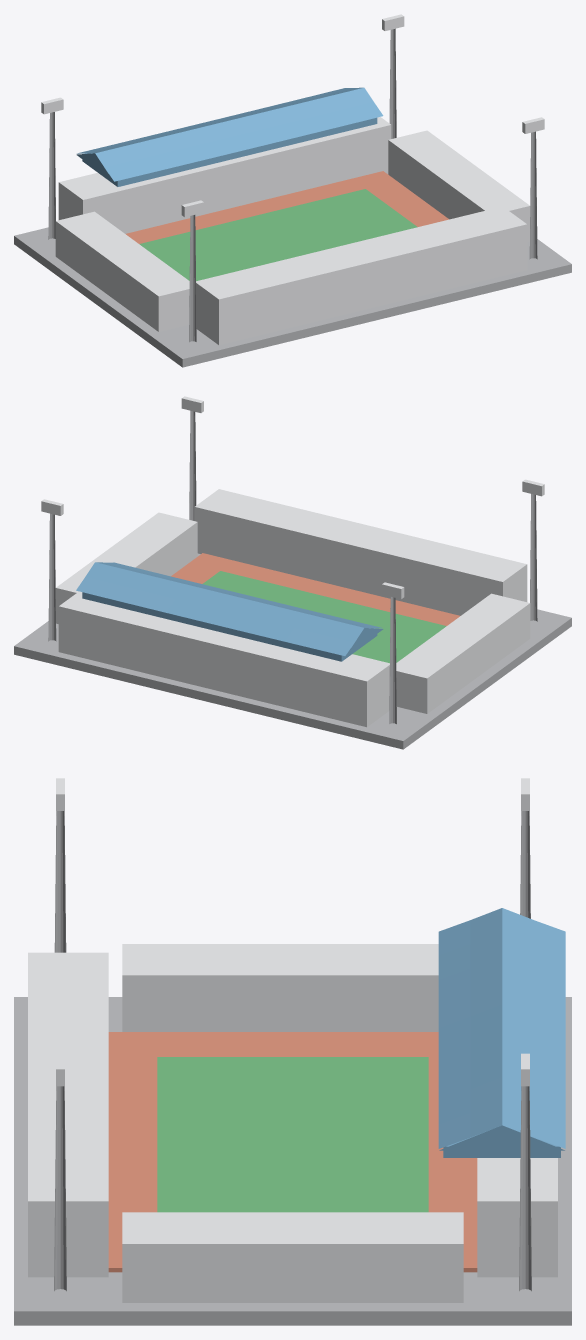
Rendered from lm_97_san_van_dong_da_lat_20000_cho_doi_thanh_mau_complex.glb.
The picture shows the model from 3 angles, top to bottom: view 1: azimuth 30°, elevation 25°; view 2: azimuth 150°, elevation 25°; view 3: azimuth 270°, elevation 25°; orthographic projection. The views are drawn at different scales.
Parts seen in each view (by area): view 1: lm_97_san_van_dong_da_lat_20000_cho_doi_thanh_mau_complex; view 2: lm_97_san_van_dong_da_lat_20000_cho_doi_thanh_mau_complex; view 3: lm_97_san_van_dong_da_lat_20000_cho_doi_thanh_mau_complex.
Part boxes in pixels (<box>): lm_97_san_van_dong_da_lat_20000_cho_doi_thanh_mau_complex: <box>14,14,571,367</box>; lm_97_san_van_dong_da_lat_20000_cho_doi_thanh_mau_complex: <box>14,396,571,749</box>; lm_97_san_van_dong_da_lat_20000_cho_doi_thanh_mau_complex: <box>14,778,571,1325</box>.
Bounding box in the file's own units: 48 × 17.4 × 36.
